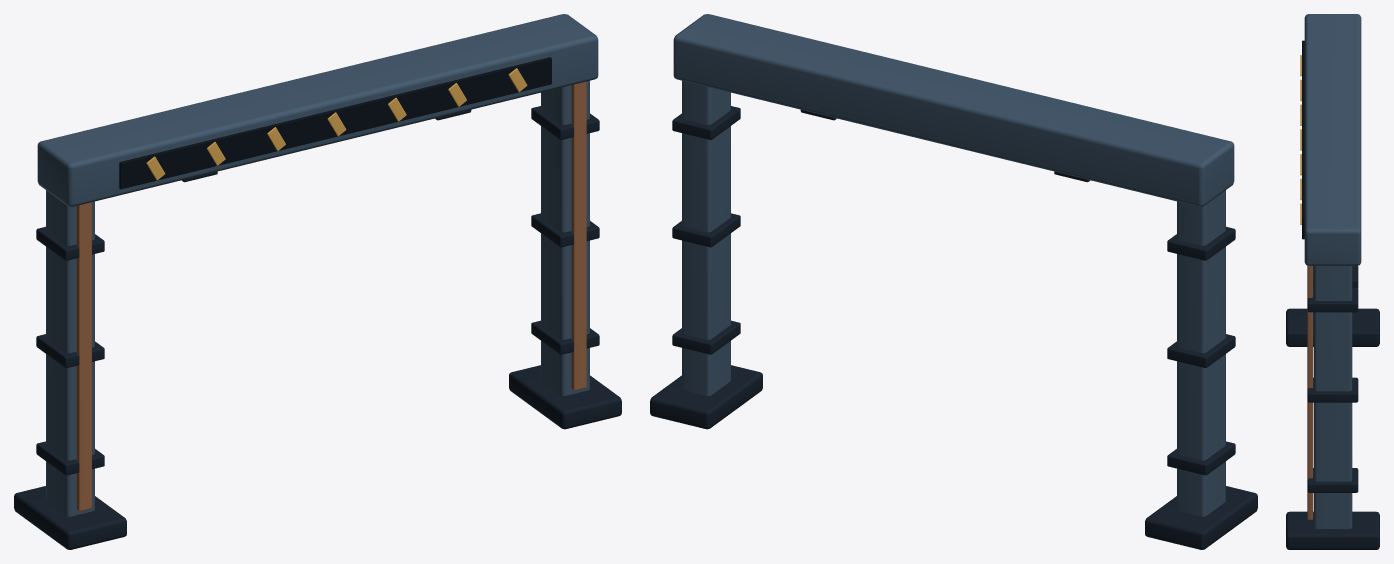
The model's file is foundry_gantry.fbx.
The picture shows the model from 3 angles, left to right: view 1: azimuth 30°, elevation 25°; view 2: azimuth 150°, elevation 25°; view 3: azimuth 270°, elevation 25°; orthographic projection. The views are drawn at different scales.
Visible parts, largest first — view 1: foundry_gantry_Geometry; view 2: foundry_gantry_Geometry; view 3: foundry_gantry_Geometry.
Part boxes in pixels (x1,y1,x2,y2): foundry_gantry_Geometry: (14,14,621,549); foundry_gantry_Geometry: (650,14,1257,549); foundry_gantry_Geometry: (1286,14,1379,549).
Bounding box in the file's own units: 9.2 × 5.95 × 1.6.
